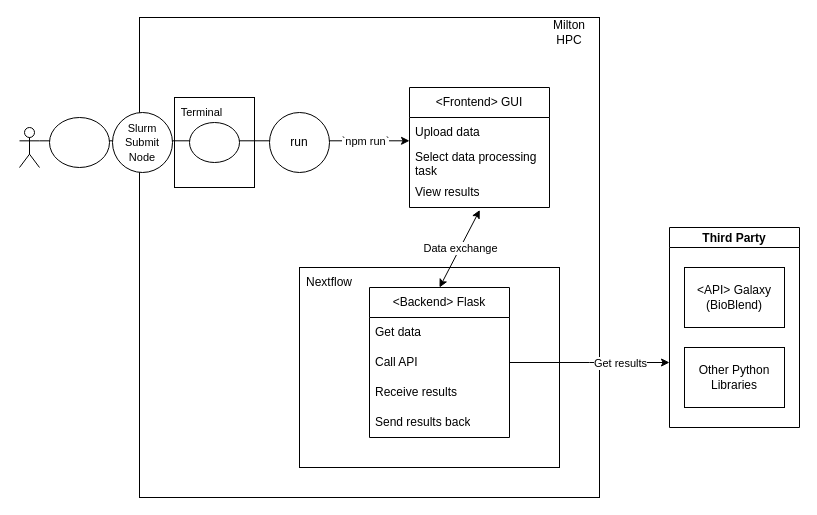
The diagram is 817 pixels wide and 515 high, and some of its shapes have lost their labels. The centre of each missing label's shape, as x and y in pixels:
"Git clone" goes at point (214, 142).
"OnDemand Login Node" goes at point (79, 142).
"User" goes at point (29, 147).
